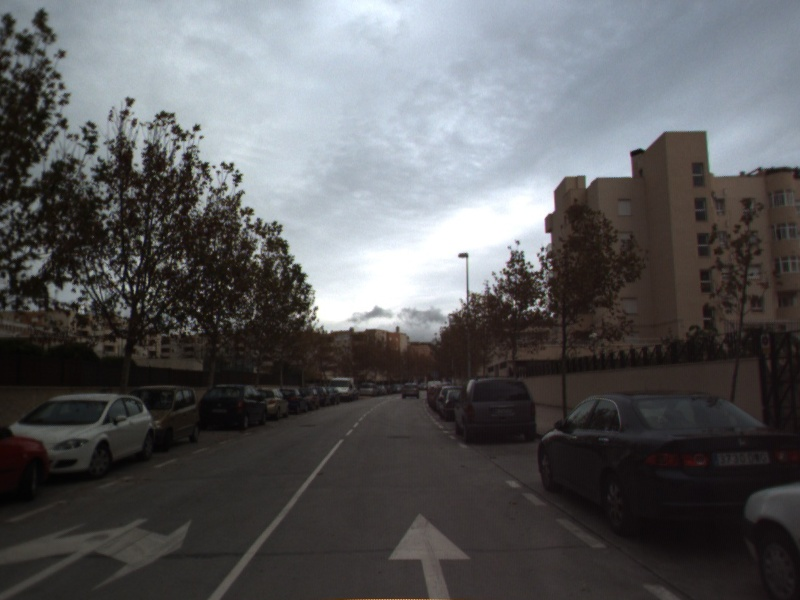STRAIGHT: (385, 509, 475, 600)
